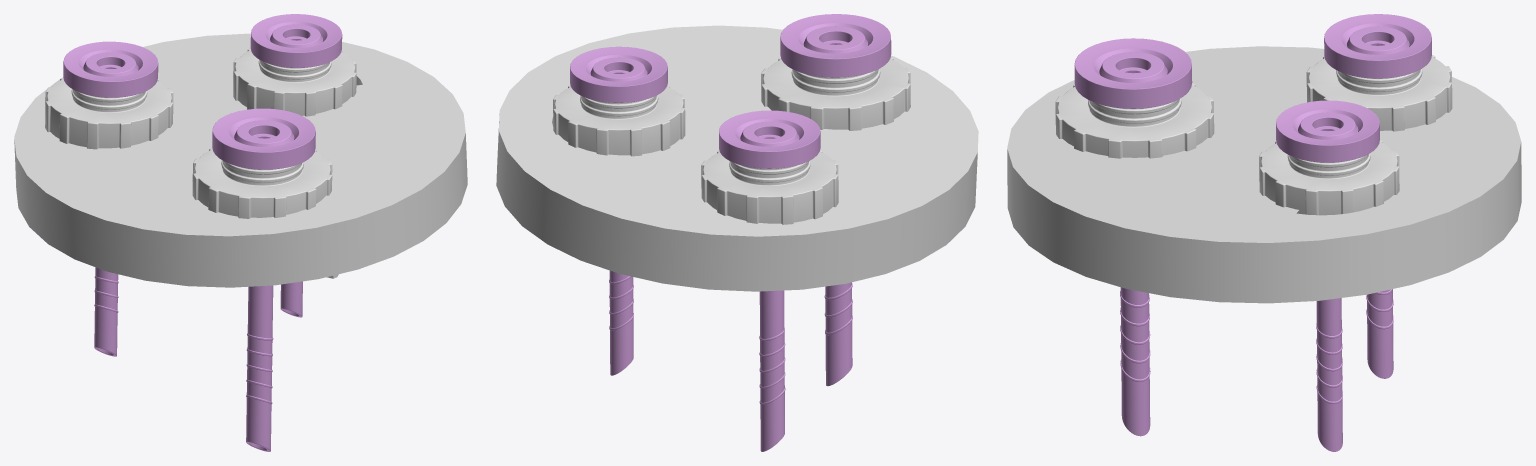
Rendered from SilsPort.fbx.
The picture shows the model from 3 angles, left to right: view 1: azimuth 30°, elevation 25°; view 2: azimuth 150°, elevation 25°; view 3: azimuth 270°, elevation 25°; orthographic projection. The views are drawn at different scales.
Parts seen in each view (by area): view 1: Circle; view 2: Circle; view 3: Circle.
Part boxes in pixels (bbox=[...]): Circle: bbox=[14, 14, 467, 451]; Circle: bbox=[496, 14, 978, 451]; Circle: bbox=[1007, 14, 1521, 451].
Size of the model in its own units: 0.43 by 0.3458 by 0.4284.
